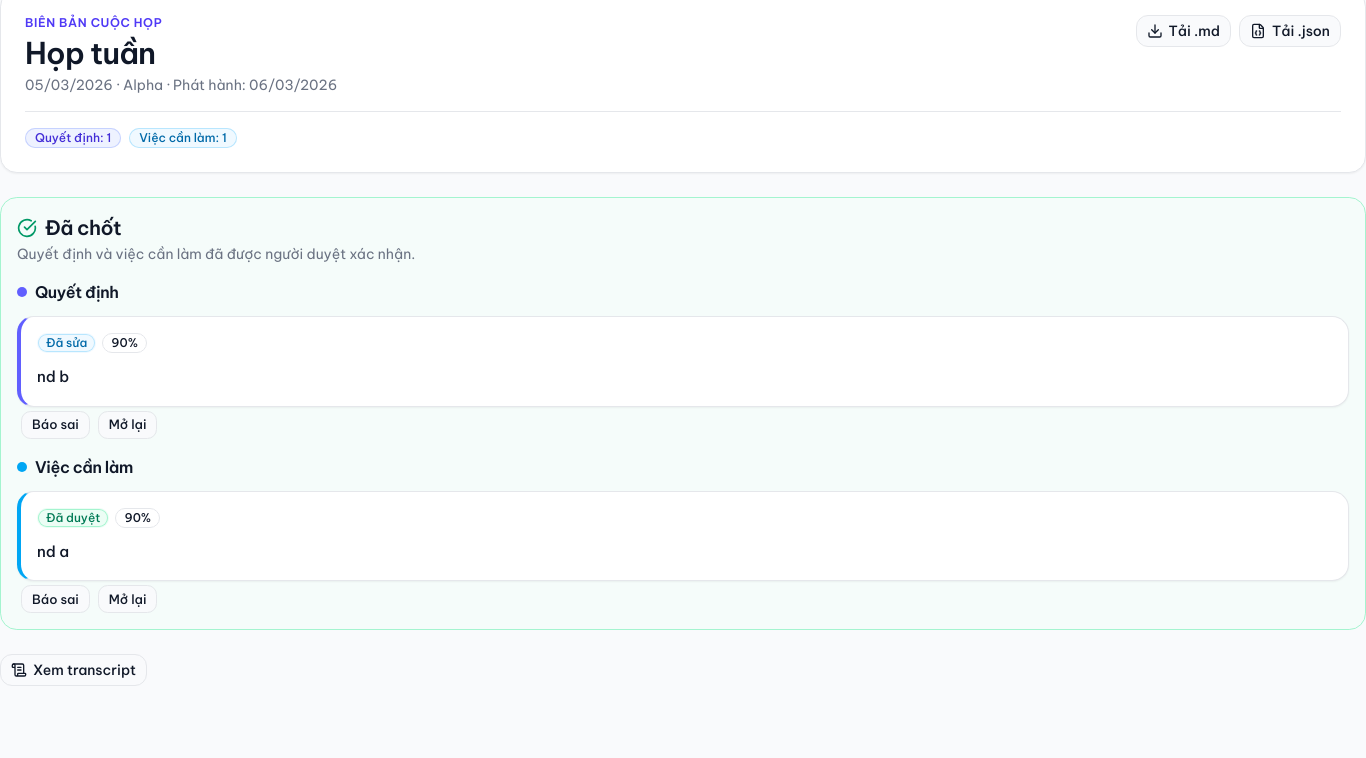
transcript hidden by default and toggles
Click the button "Xem transcript" at (74, 670), box top-left (0, 654), bottom-right (147, 686)
(page scrolled)
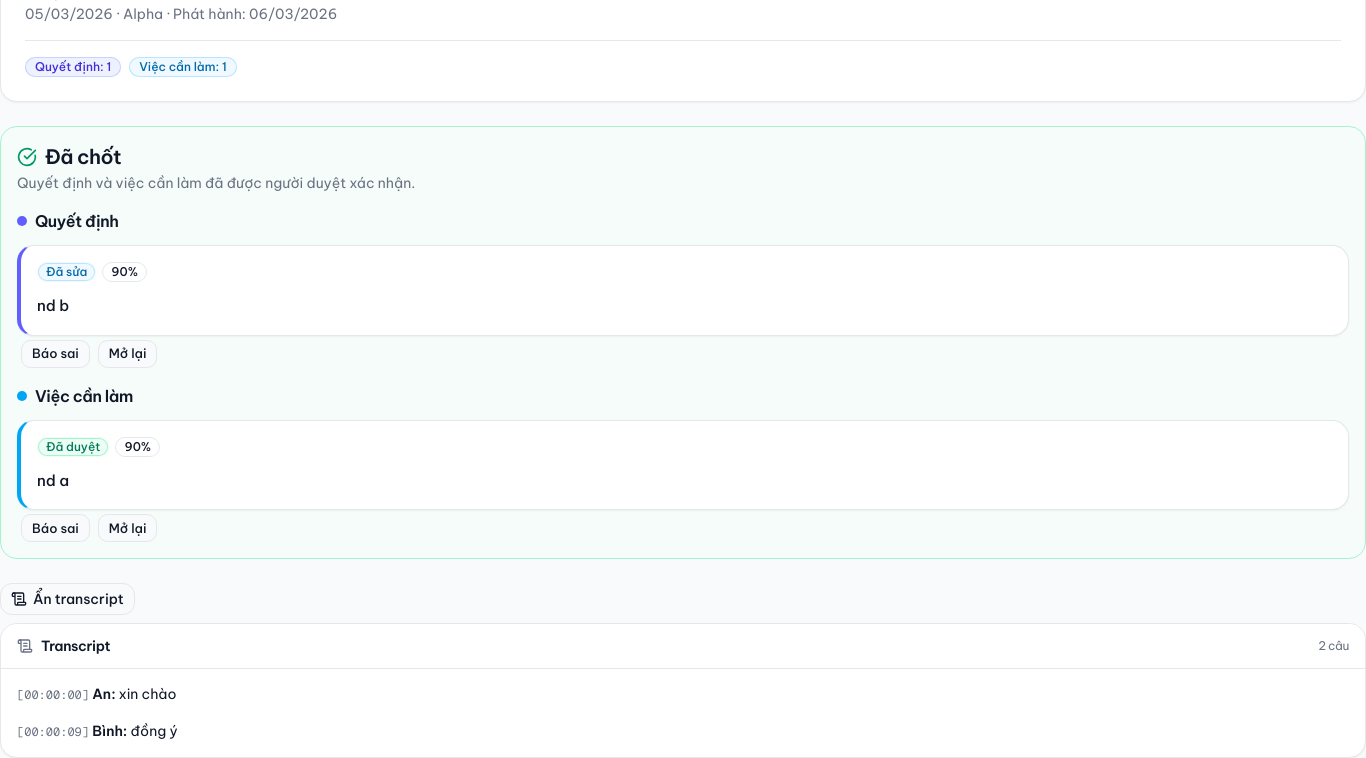
Check: the element showing "[00:00:00] An: xin chào" is shown, box top-left (17, 685), bottom-right (176, 703)
